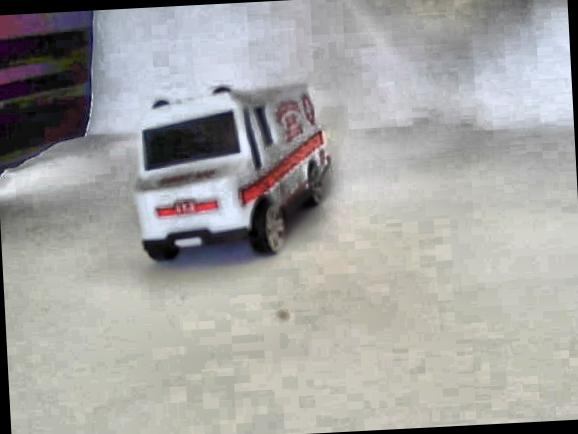ambulance: (128, 79, 335, 262)
